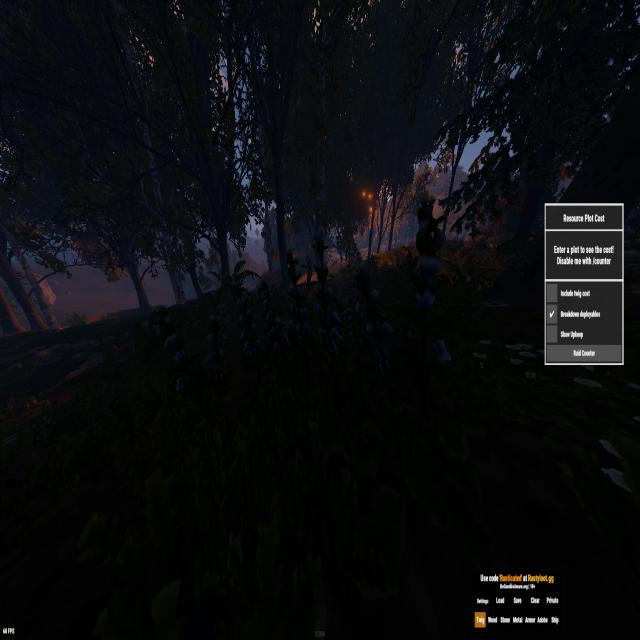Player: (304, 255, 313, 290)
